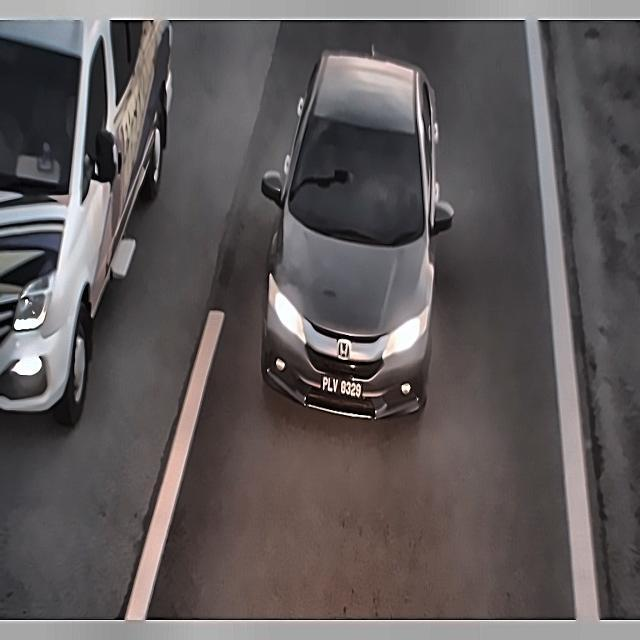car: (321, 367, 364, 405)
